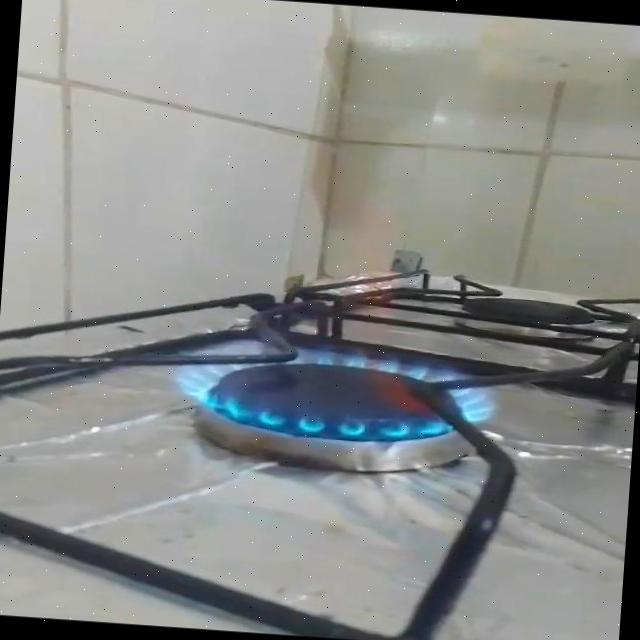fire: (167, 183, 510, 455)
